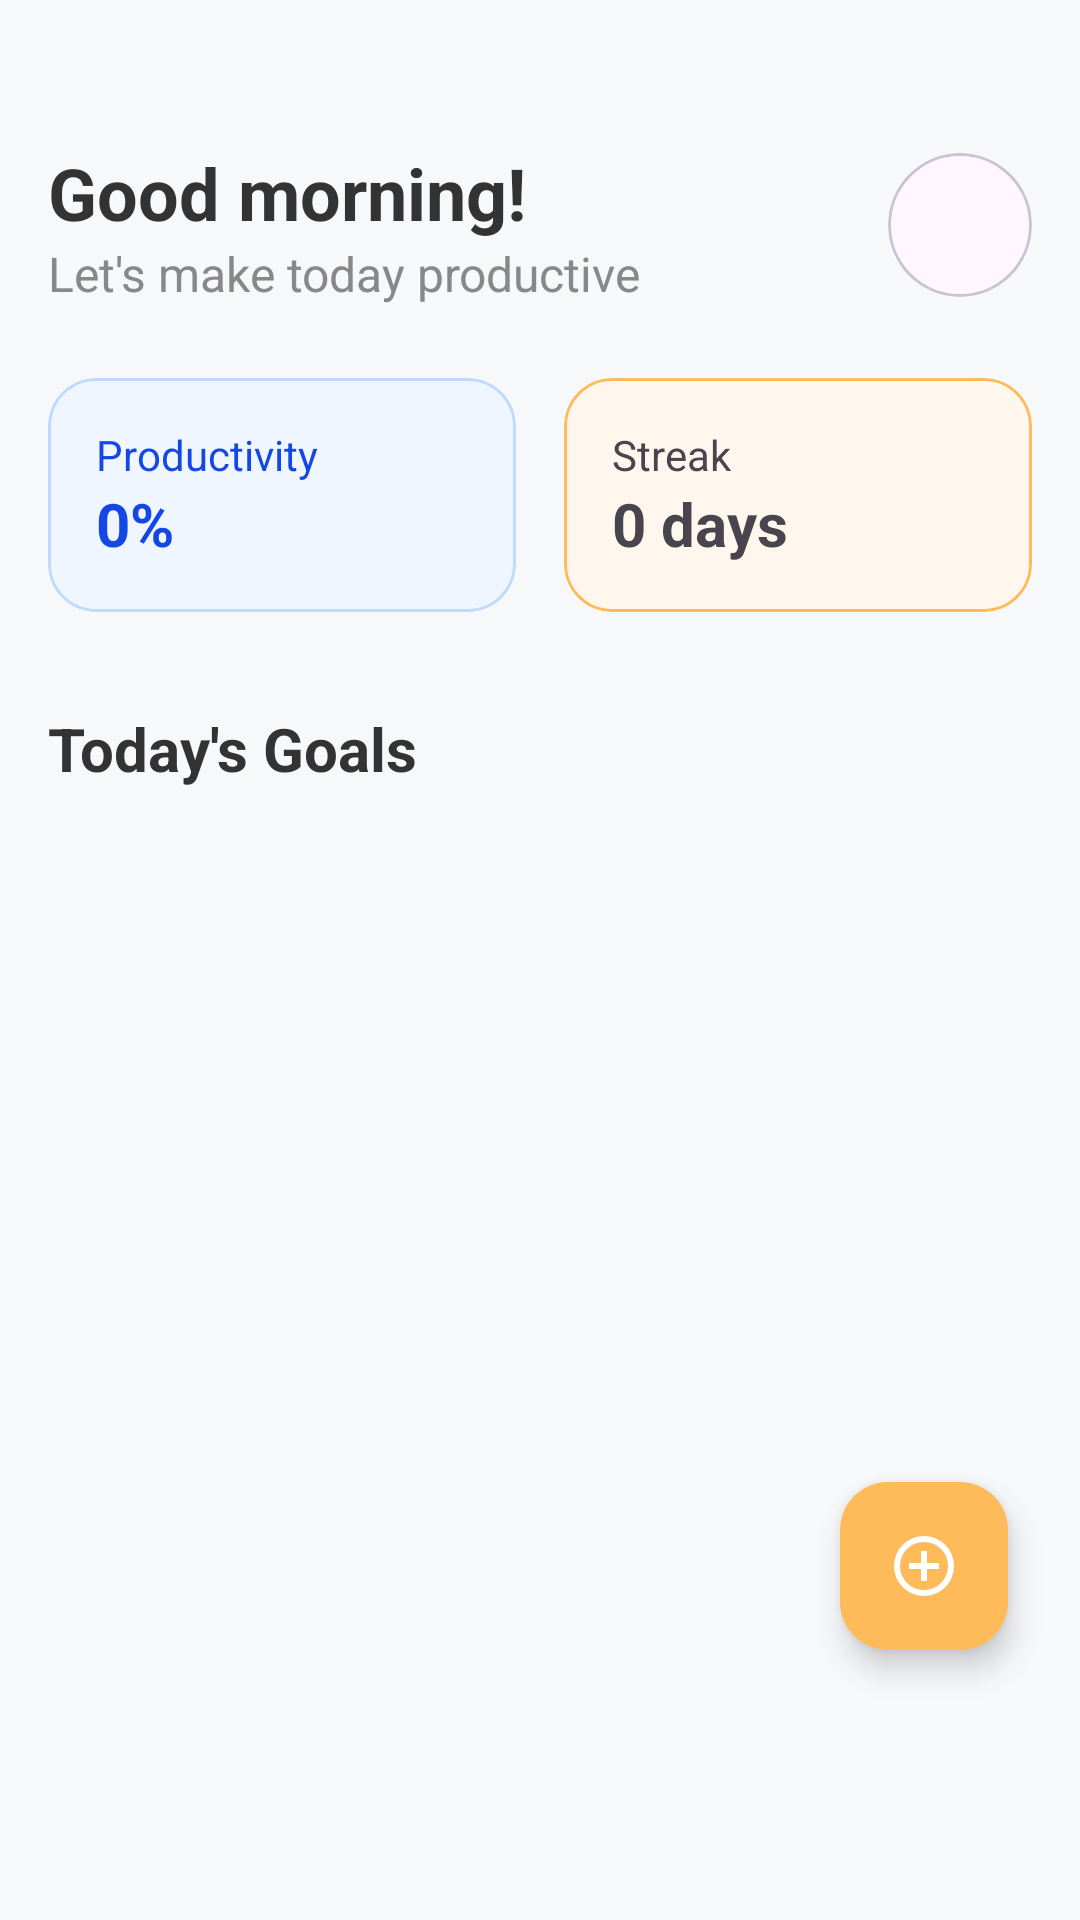

Named icons in this screenshot (1080x1920) and their centers, [x,y]:
Add New Goal: [924,1566]
